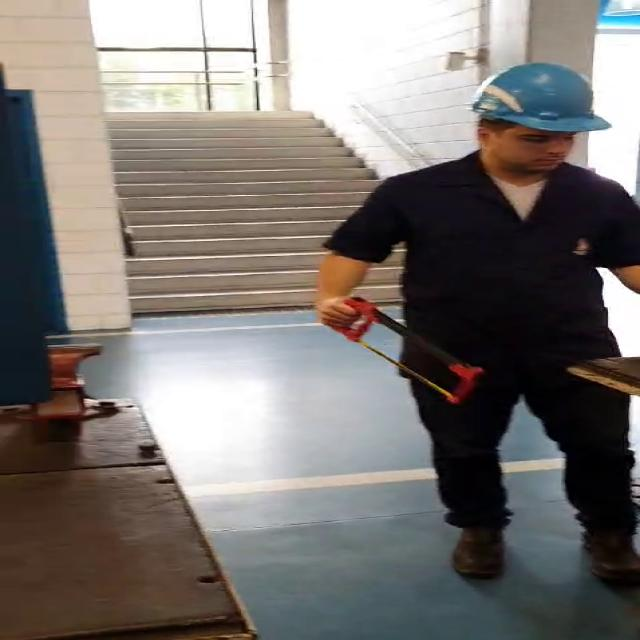sem_oculos: (478, 125, 582, 146)
